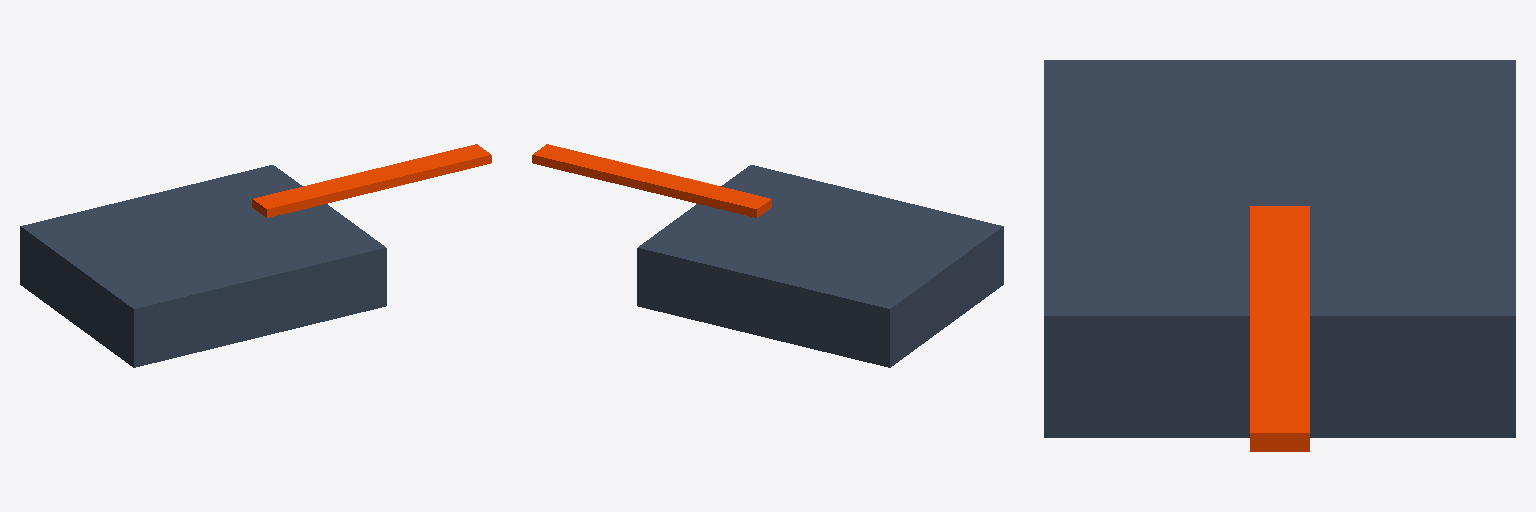
The robot description file, URDF, robot "sample_drone":
<?xml version="1.0"?><robot name="sample_drone"><link name="base"><inertial><mass value="0.8"/><inertia ixx="0.01" ixy="0" ixz="0" iyy="0.01" iyz="0" izz="0.02"/></inertial><visual><geometry><box size="0.18 0.14 0.04"/></geometry><material name="body"><color rgba="0.3 0.35 0.42 1"/></material></visual><collision><geometry><box size="0.18 0.14 0.04"/></geometry></collision></link><link name="rotor"><inertial><mass value="0.06"/><inertia ixx="0.001" ixy="0" ixz="0" iyy="0.001" iyz="0" izz="0.001"/></inertial><visual><geometry><box size="0.16 0.018 0.006"/></geometry><material name="orange"><color rgba="1 0.35 0.04 1"/></material></visual><collision><geometry><box size="0.16 0.018 0.006"/></geometry></collision></link><joint name="rotor_joint" type="revolute"><parent link="base"/><child link="rotor"/><origin xyz="0.12 0 0.03"/><axis xyz="0 0 1"/><limit lower="-3.14" upper="3.14" effort="1" velocity="4"/></joint></robot>

--- Facts derived from the render (not from the file) ---
The picture shows the robot from 3 angles, left to right: view 1: azimuth 30°, elevation 25°; view 2: azimuth 150°, elevation 25°; view 3: azimuth 270°, elevation 25°; orthographic projection.
Robot: sample_drone — 2 links, 1 joints (1 revolute); root link base; default pose: every joint at zero.
Visible links, largest first — view 1: base, rotor; view 2: base, rotor; view 3: base, rotor.
Boxes of the visible links, <box> form: base: <box>20,165,386,367</box>; rotor: <box>252,144,491,217</box>; base: <box>637,165,1003,367</box>; rotor: <box>532,144,771,217</box>; base: <box>1044,60,1515,437</box>; rotor: <box>1250,206,1309,451</box>.
Bounding box of the posed robot: 0.29 × 0.14 × 0.053 m (x, y, z).
Geometry: primitives only (box / cylinder / sphere), no mesh files.
